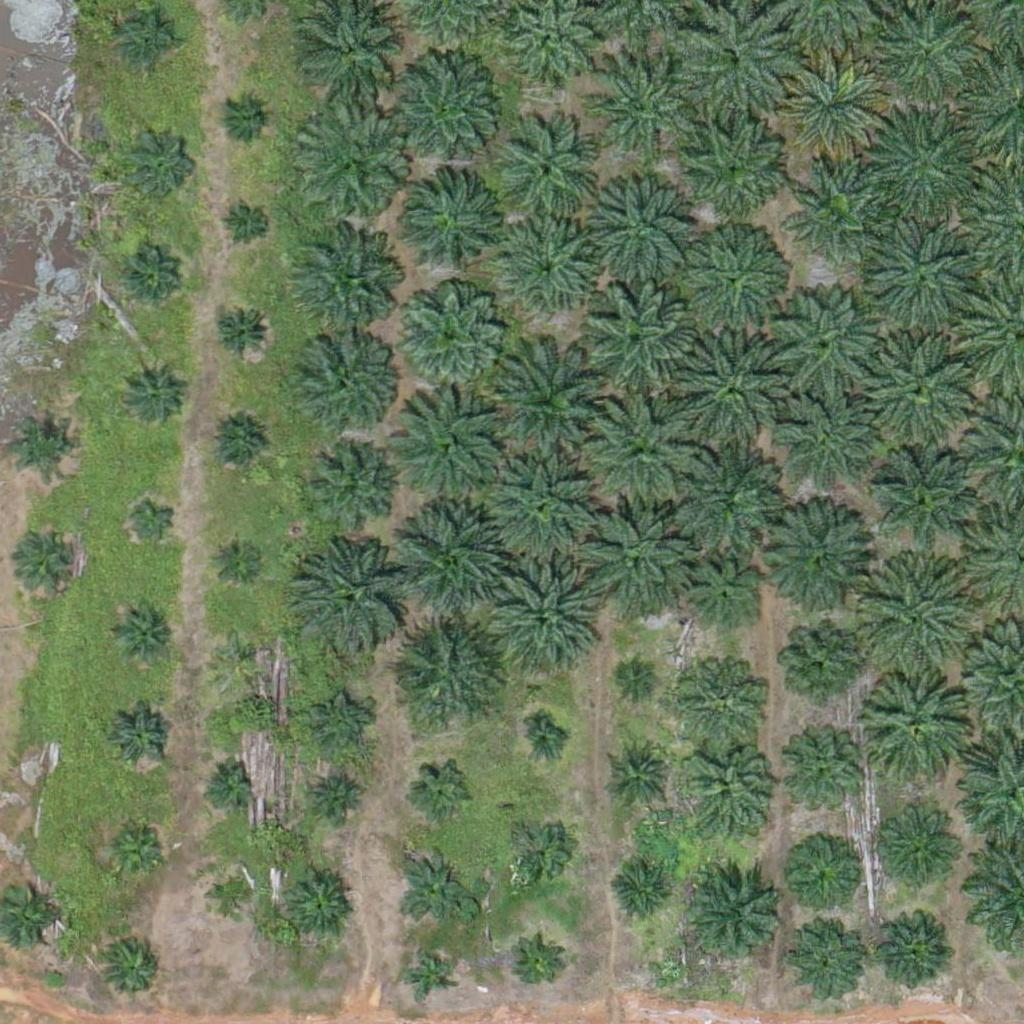Kelapa_Sawit: (490, 341, 615, 467), (288, 535, 413, 661), (485, 449, 598, 563), (395, 394, 508, 508), (393, 279, 506, 393), (297, 111, 410, 225), (855, 666, 968, 779), (758, 506, 871, 619), (676, 334, 789, 447), (662, 435, 775, 548), (483, 558, 596, 671), (396, 500, 509, 613), (387, 615, 500, 728), (776, 53, 889, 166), (773, 286, 886, 399), (678, 6, 791, 119), (674, 111, 787, 224), (387, 56, 500, 169), (576, 495, 688, 609), (290, 230, 402, 344), (858, 556, 970, 669), (587, 393, 699, 506), (863, 106, 975, 219), (863, 217, 975, 330), (862, 329, 974, 442), (586, 51, 698, 164), (582, 283, 694, 396), (872, 453, 972, 554), (681, 865, 781, 966), (684, 231, 784, 332), (591, 176, 691, 277), (499, 125, 599, 226), (296, 328, 396, 429), (500, 218, 600, 318), (404, 172, 504, 272), (676, 656, 764, 744), (684, 750, 772, 838), (306, 445, 394, 533), (794, 168, 881, 257), (870, 803, 957, 891), (781, 400, 868, 488), (784, 626, 859, 702), (878, 919, 953, 995), (786, 741, 861, 817), (789, 923, 864, 999), (682, 559, 757, 635), (124, 124, 199, 199), (281, 867, 356, 942), (397, 849, 472, 924), (22, 528, 85, 591), (11, 412, 74, 475), (120, 251, 183, 314), (109, 600, 172, 663), (109, 705, 172, 768), (786, 846, 849, 909), (102, 937, 165, 1000), (610, 864, 673, 927), (505, 819, 568, 882), (102, 819, 165, 882), (210, 301, 273, 364), (119, 8, 181, 71), (121, 362, 183, 425), (309, 692, 371, 755), (413, 761, 475, 824), (207, 413, 269, 476), (511, 941, 561, 992), (315, 770, 365, 821), (404, 950, 454, 1001), (213, 530, 263, 581), (212, 627, 262, 678), (202, 756, 252, 807), (128, 492, 178, 543), (218, 92, 268, 143), (613, 749, 663, 799), (206, 872, 256, 922), (222, 200, 272, 250), (621, 660, 659, 698), (526, 722, 563, 760)
